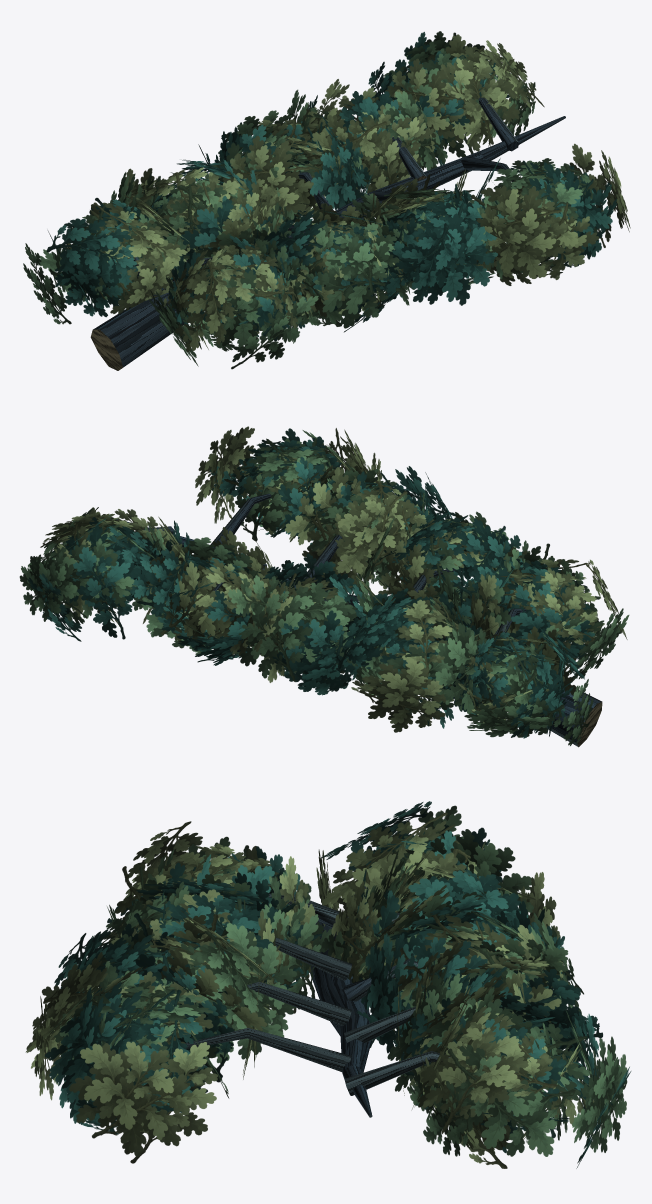
File: leaf_bough.glb
The picture shows the model from 3 angles, top to bottom: view 1: azimuth 30°, elevation 25°; view 2: azimuth 150°, elevation 25°; view 3: azimuth 270°, elevation 25°; orthographic projection. The views are drawn at different scales.
Parts seen in each view (by area): view 1: leaf_bough; view 2: leaf_bough; view 3: leaf_bough.
Boxes of the visible parts, <box> form: leaf_bough: <box>23,31,630,370</box>; leaf_bough: <box>19,426,629,747</box>; leaf_bough: <box>25,801,631,1168</box>.
Bounding box in the file's own units: 3.79 × 1.32 × 2.79.
2 materials, 2 textured.
